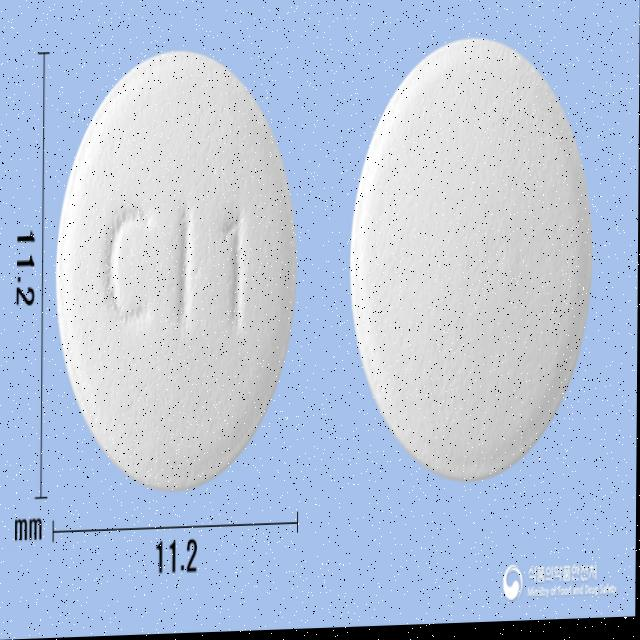Ciprocell: (54, 45, 304, 506)
